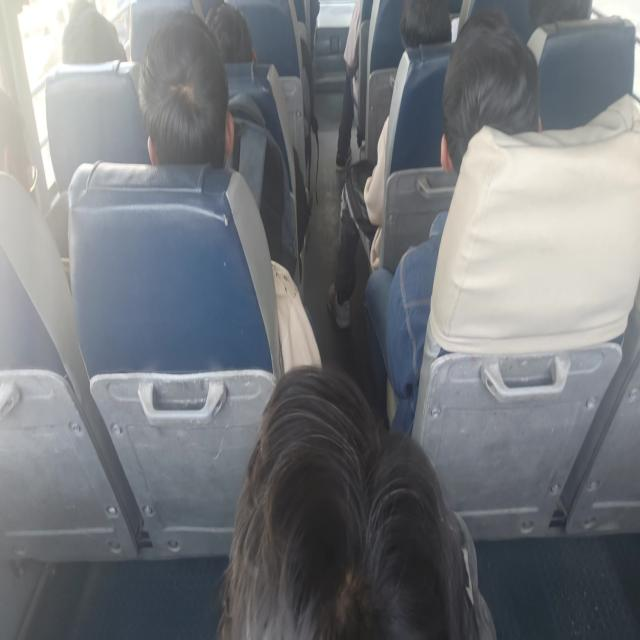person: (226, 379, 484, 640), (137, 23, 235, 171), (441, 34, 535, 170), (51, 0, 122, 71), (0, 101, 42, 197), (198, 10, 256, 69), (400, 0, 457, 59)
